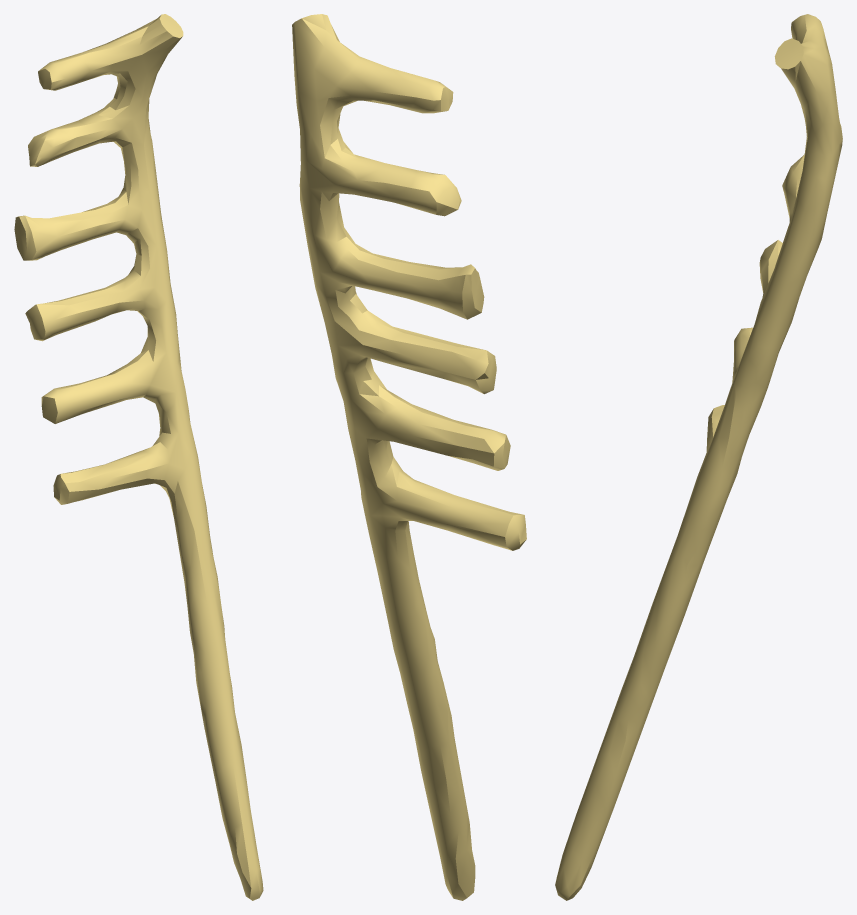
The model's file is fma327359-l_mm2638.glb.
3 views of the same model, side by side, from view 1: azimuth 30°, elevation 25°; view 2: azimuth 150°, elevation 25°; view 3: azimuth 270°, elevation 25° (orthographic). The views are drawn at different scales.
Parts seen in each view (by area): view 1: FMA327359-L_MM2638; view 2: FMA327359-L_MM2638; view 3: FMA327359-L_MM2638.
Part boxes in pixels (<box>): FMA327359-L_MM2638: <box>14,14,263,900</box>; FMA327359-L_MM2638: <box>292,14,526,900</box>; FMA327359-L_MM2638: <box>555,14,842,900</box>.
Size of the model in its own units: 0.007 by 0.0342 by 0.0103.
